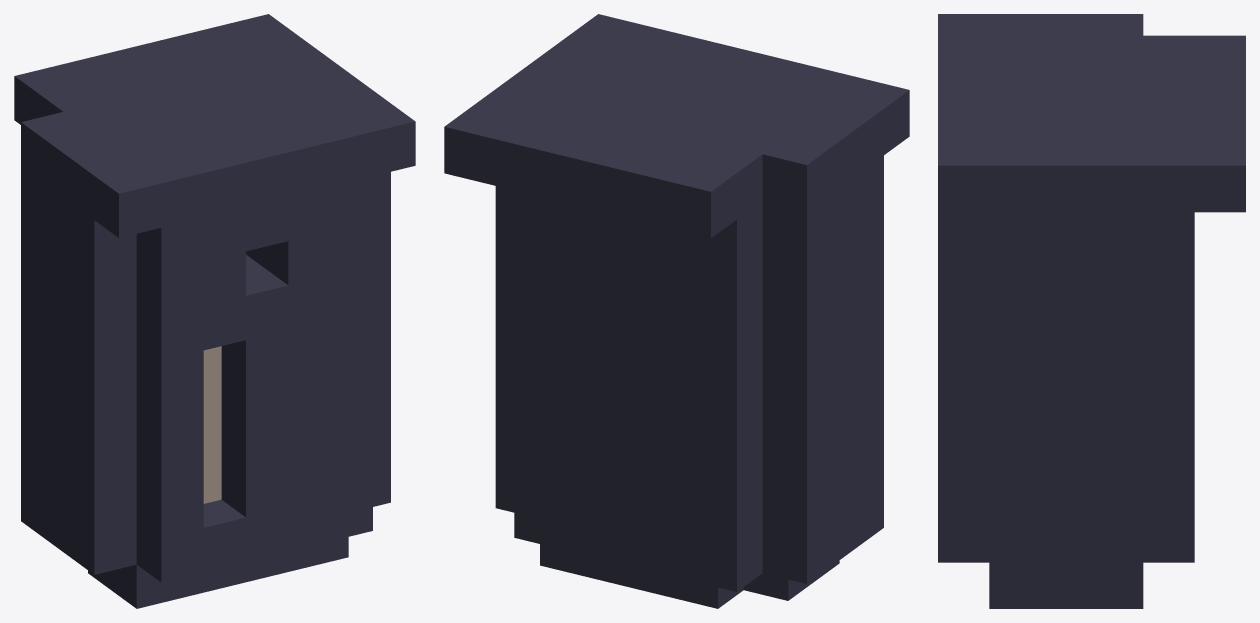
File: Leg_L_U.obj
3 views of the same model, side by side, from view 1: azimuth 30°, elevation 25°; view 2: azimuth 150°, elevation 25°; view 3: azimuth 270°, elevation 25° (orthographic). The views are drawn at different scales.
Size of the model in its own units: 0.7 by 1 by 0.6.
1 material, 1 textured.
